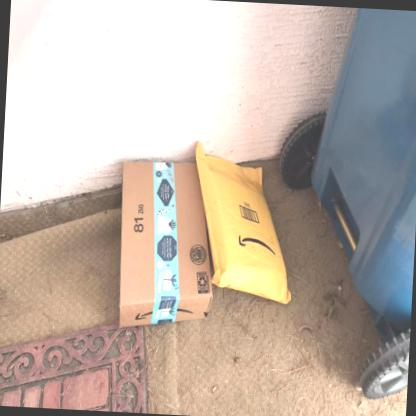box: (118, 159, 214, 331)
envelope: (193, 141, 291, 307)
